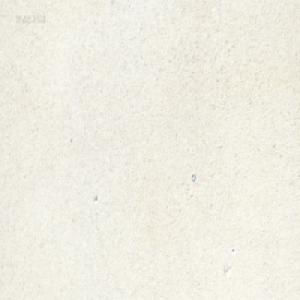Washer: (190, 172, 195, 182)
